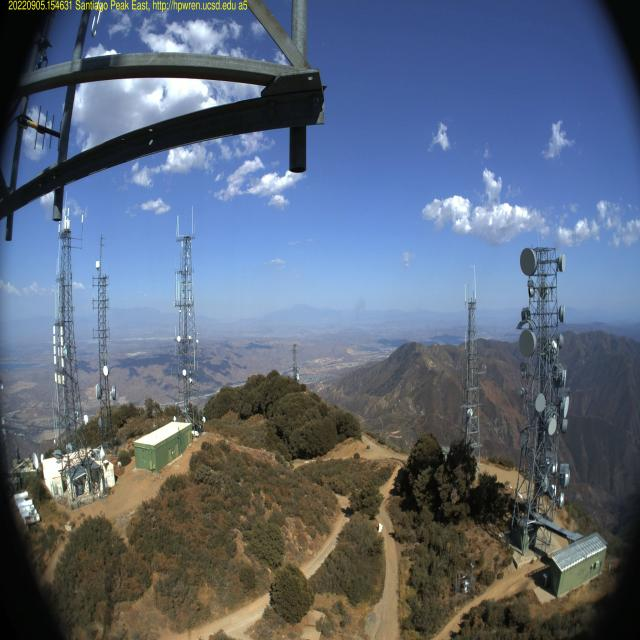smoke: (348, 287, 370, 324)
